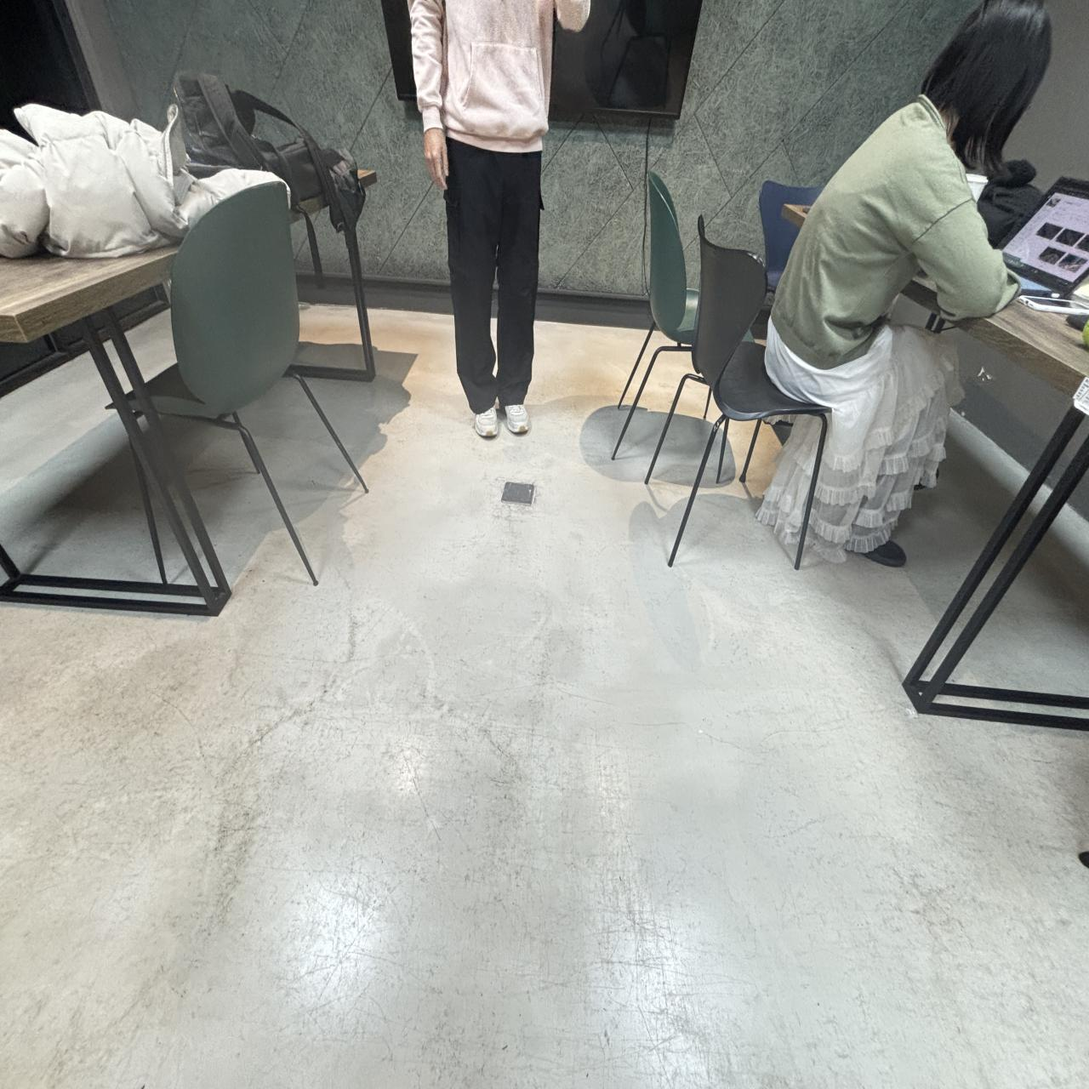person: (764, 0, 1055, 572), (412, 0, 590, 436)
